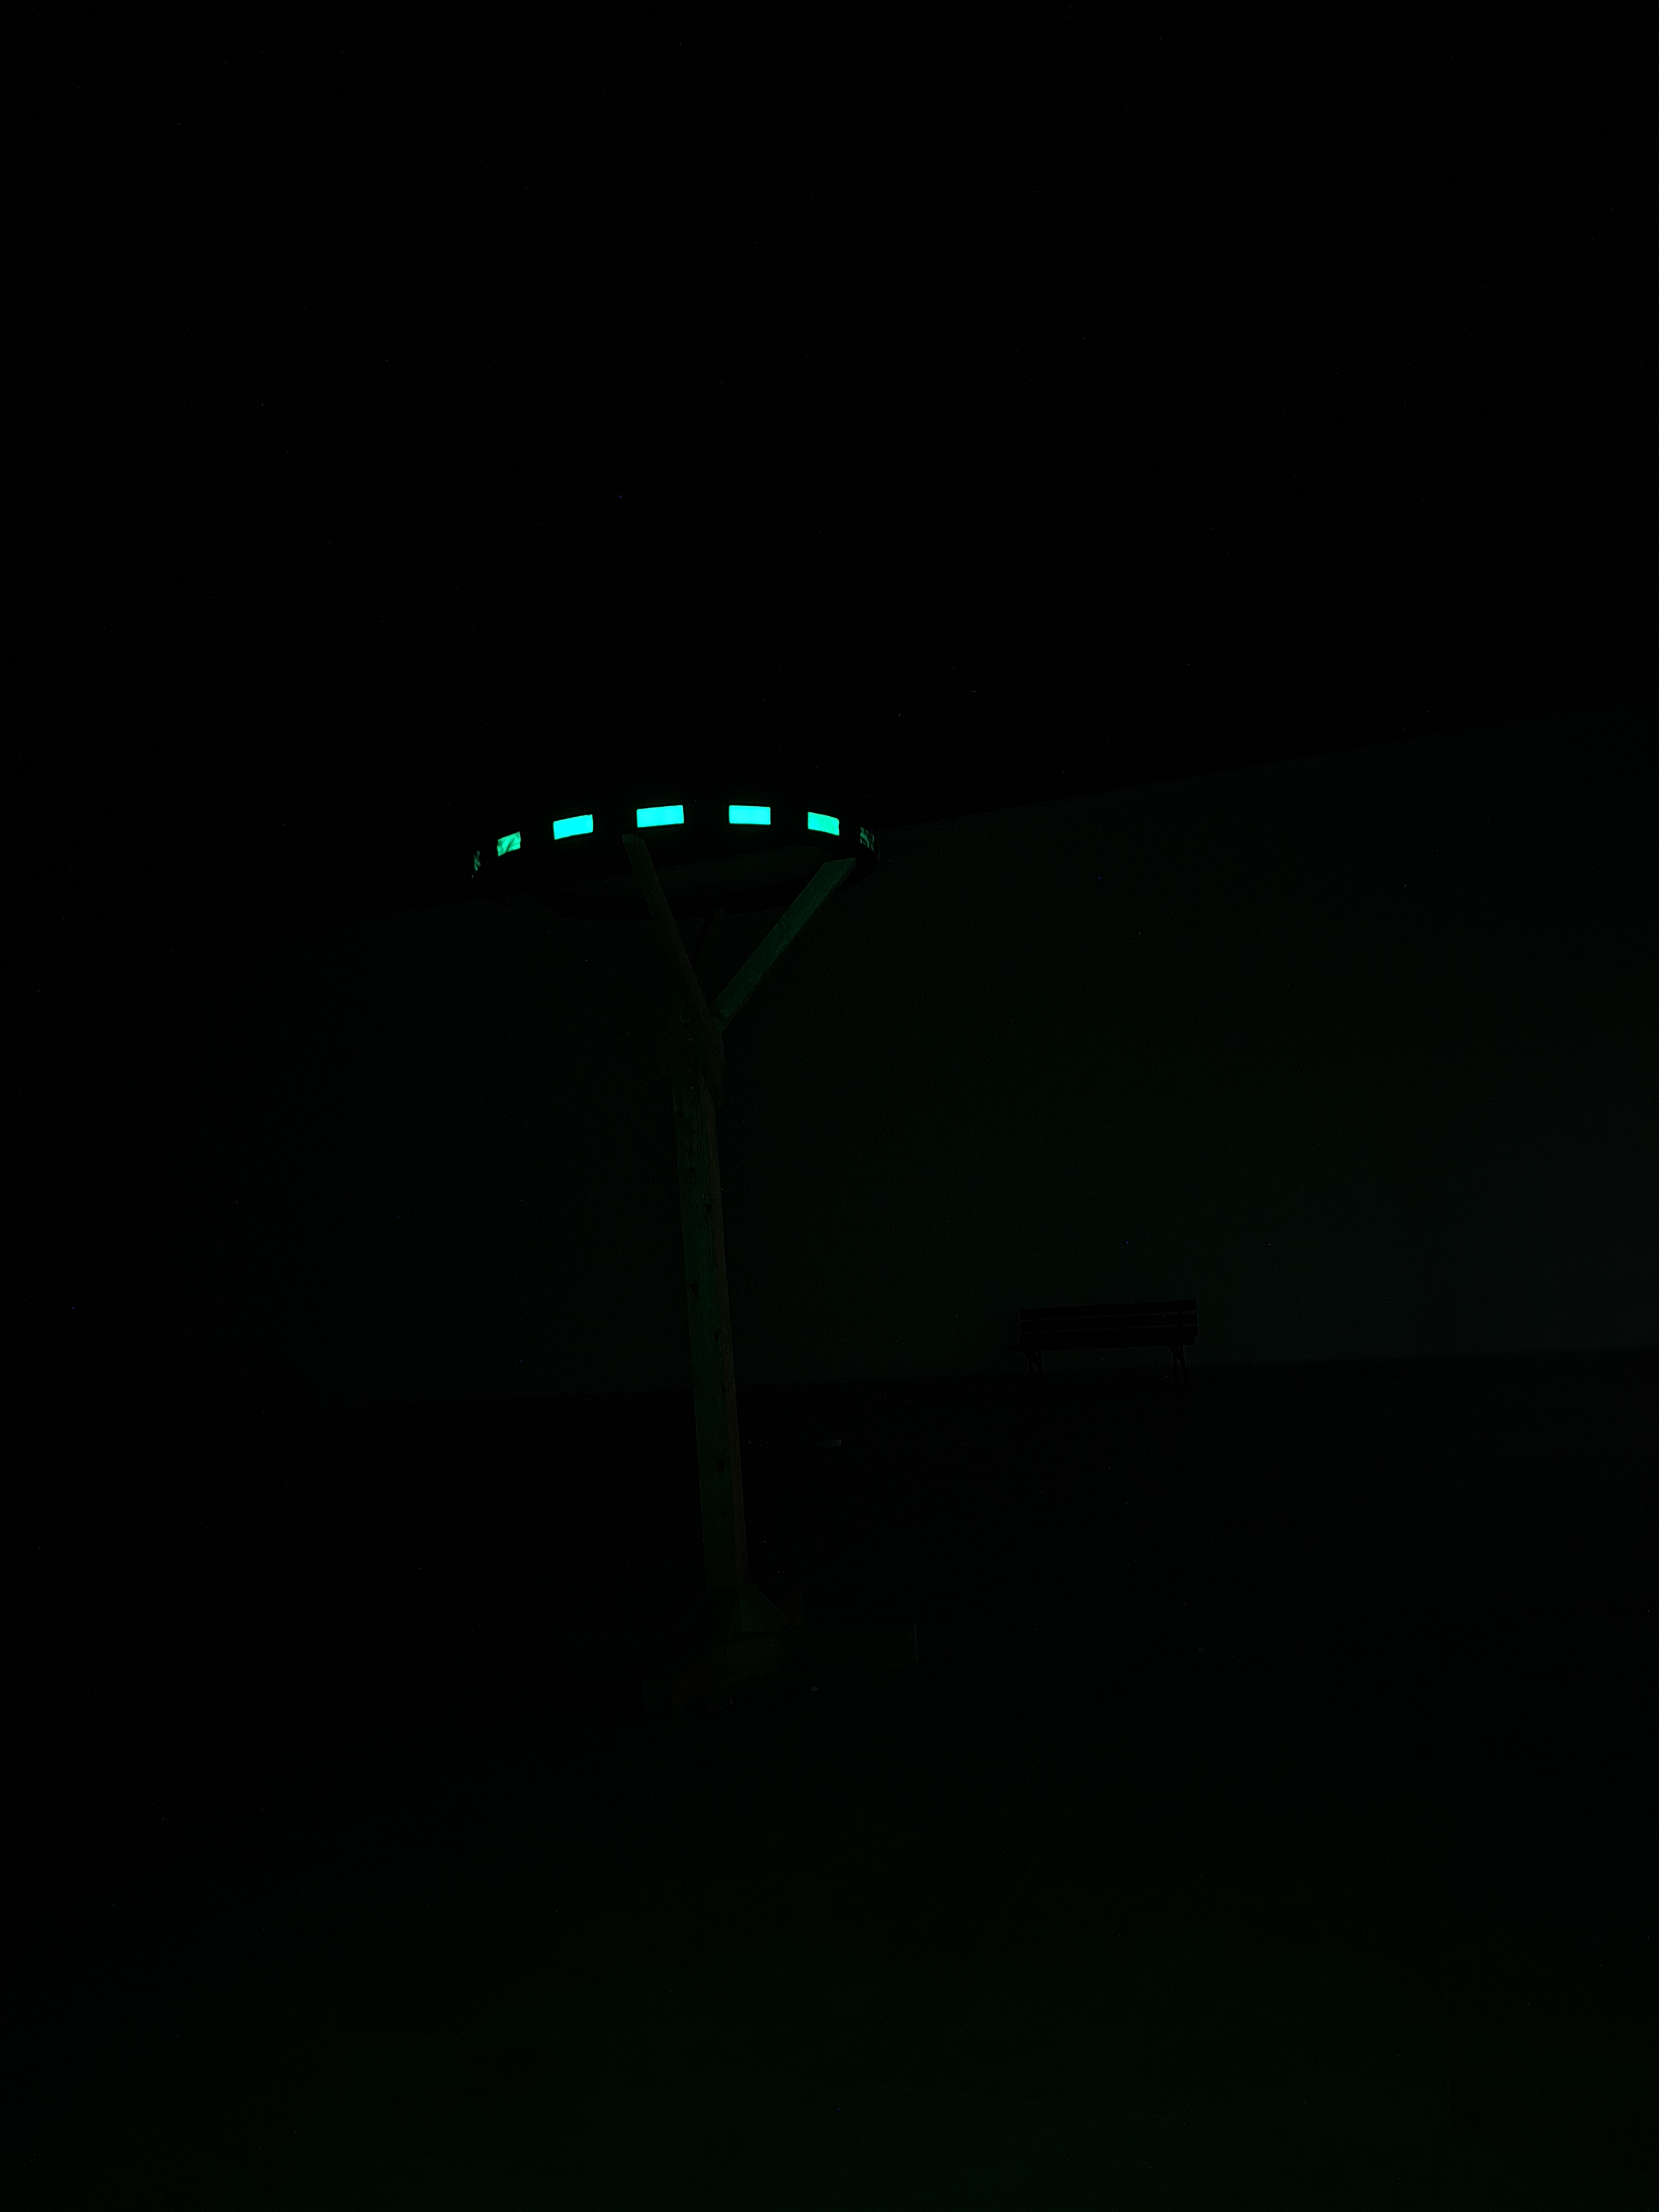hoop: (472, 803, 878, 874)
